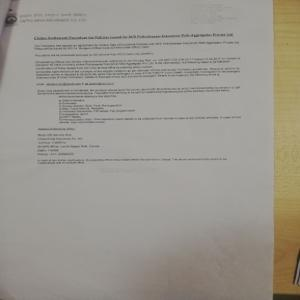text: (33, 25, 249, 168)
